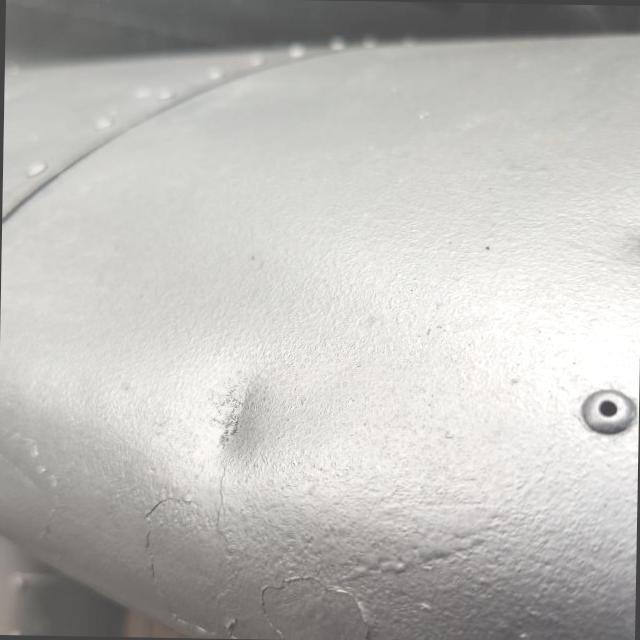dent: (198, 368, 290, 473)
